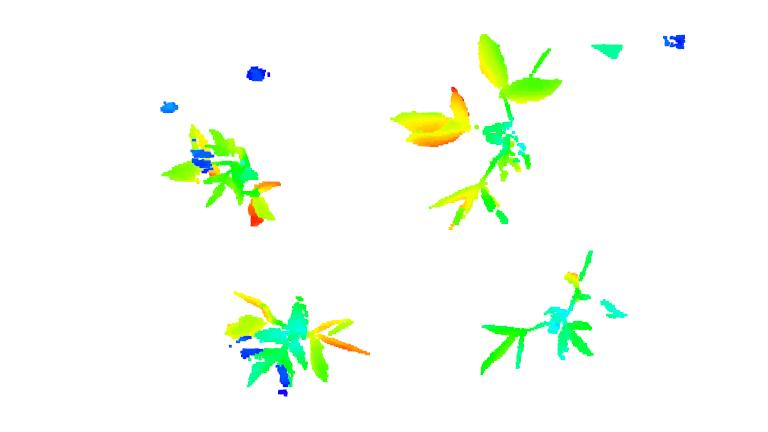mungbean: (387, 27, 552, 234), (472, 249, 631, 375), (218, 288, 374, 391), (161, 124, 276, 226)
